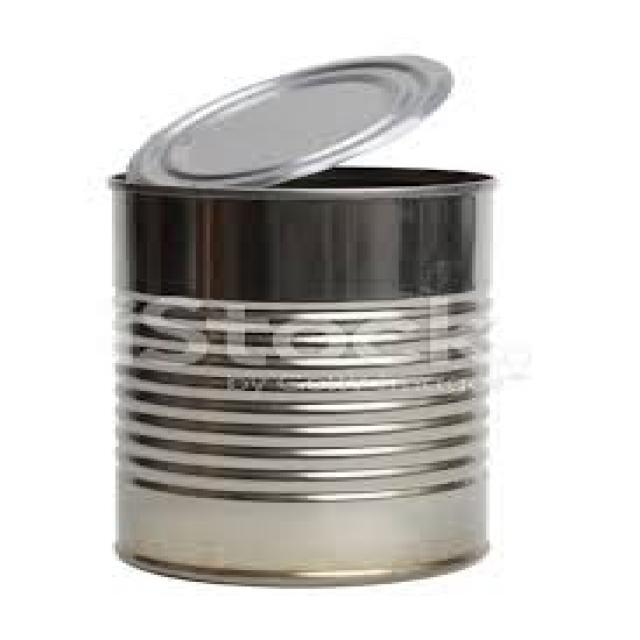recyclable: (110, 164, 492, 589), (122, 52, 457, 196)
